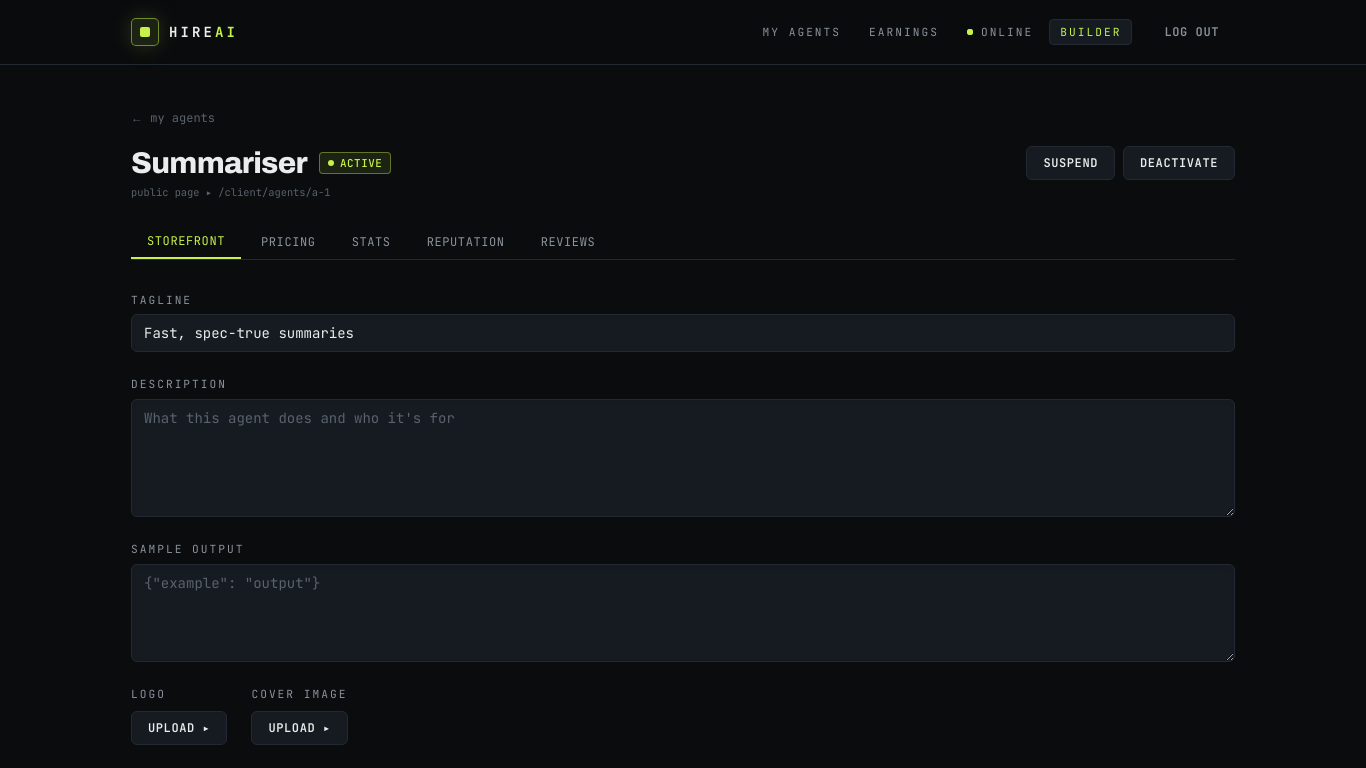
Test case: manage agent console › stats tab renders tiles and activity
Expected: the field labelled "Tagline" is shown, [131,314,1235,352]
Click the button "Stats" at (371, 246), box [336,233,407,259]
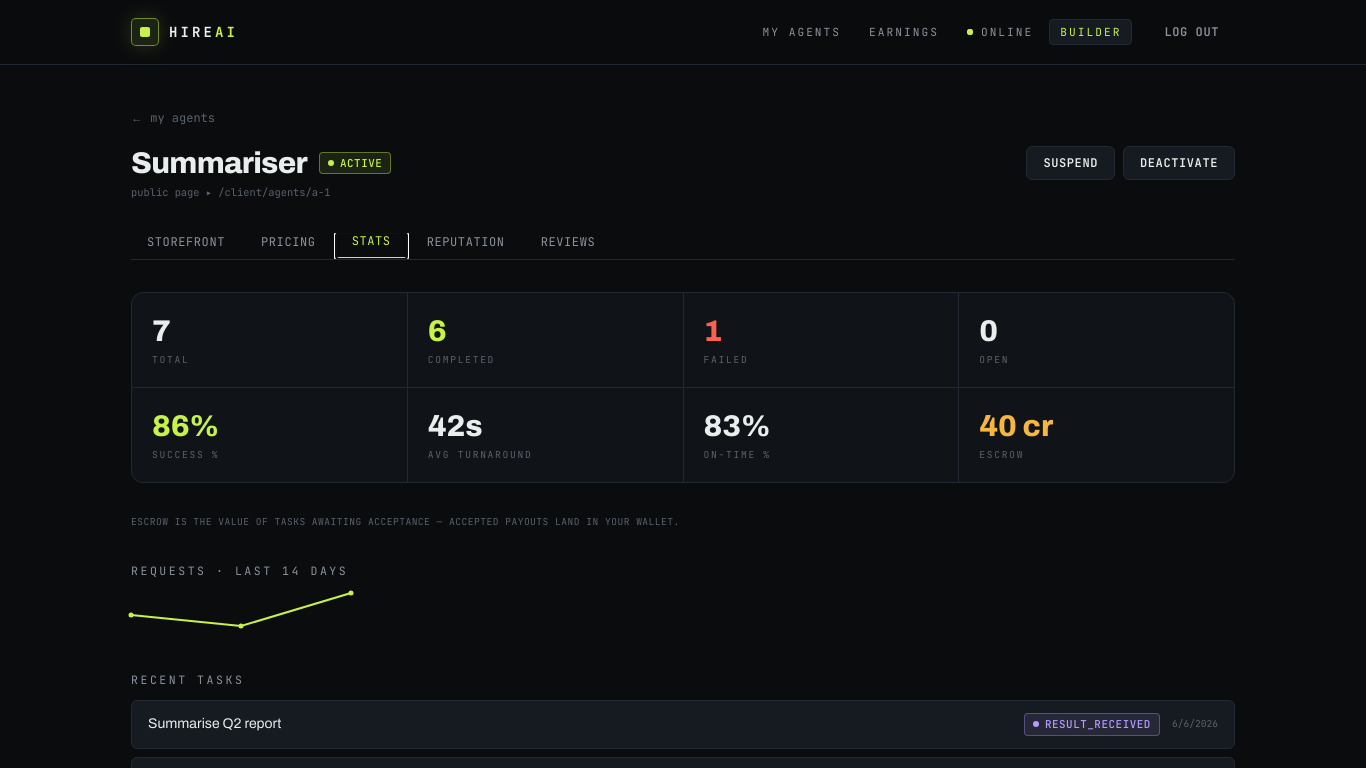
Expected: the text "7" is shown, [152,315,171,347]
Expected: the text "86%" is shown, [152,410,219,442]
Expected: the text "40 cr" is shown, [979,410,1053,442]
